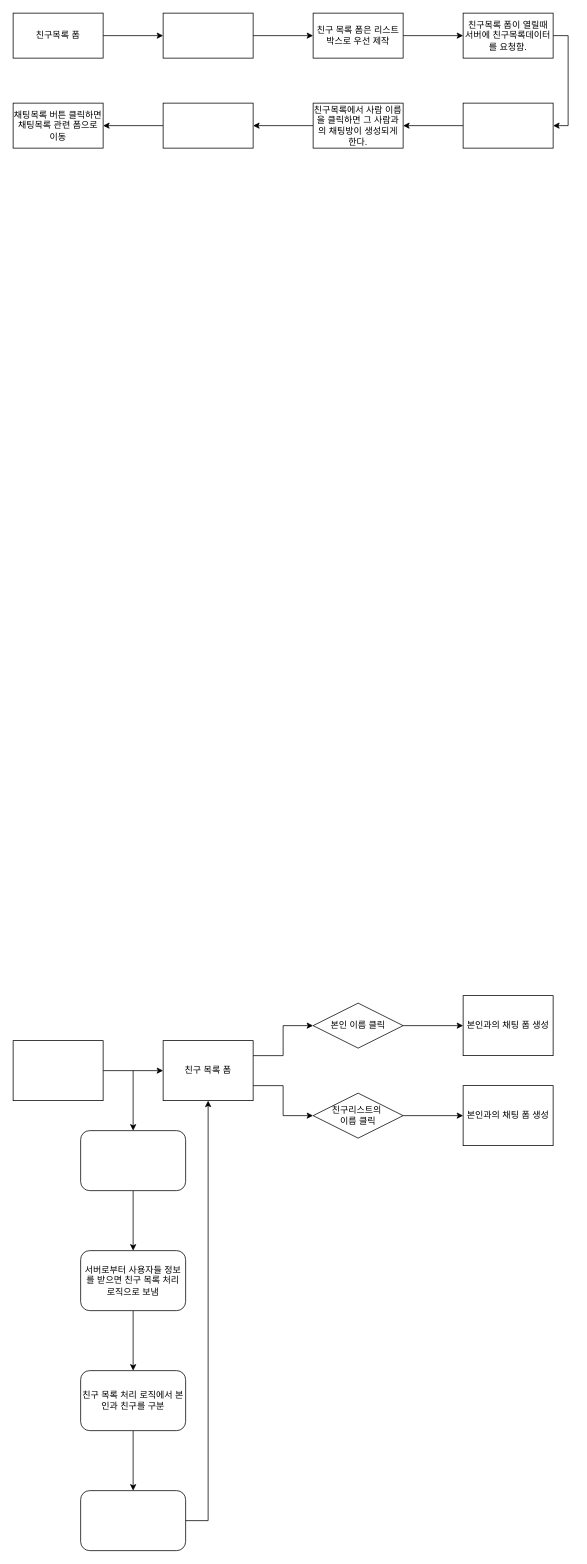
This 587x1564 diagram has some shape labels left out. Each missing label, with the centre of its shape:
로그인 성공: point (57, 1070)
로그인 성공하면 친구목록 폼으로 이동: point (207, 35)
본인 정보는 본인정보 리스트박스에 표시 친구정보는 이름 순으로 정렬 후 친구정보 리스트박스에 표시: point (133, 1520)
서버에 친구 목록 요청 메시지 데이터 패킷 전송: point (133, 1160)
채팅방 폼이 열릴 때 친구목록 폼은 모달 리스: point (207, 125)
친구목록을 받아서 리스트박스에 정렬한다.: point (507, 125)
